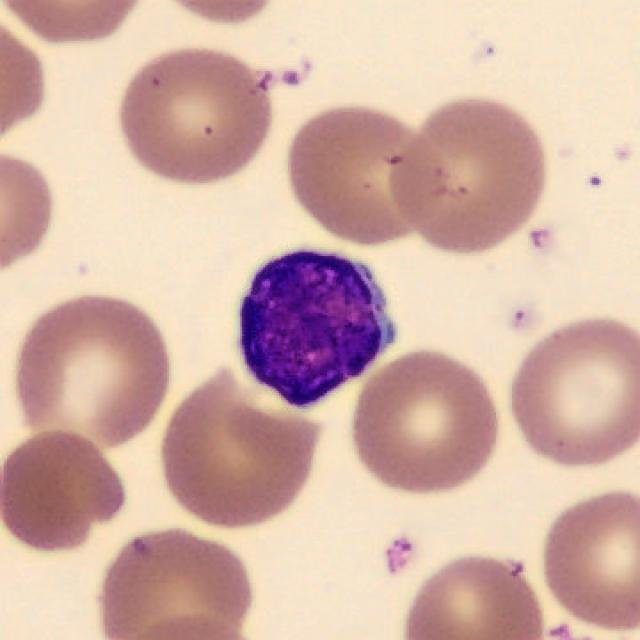Linfocito: (238, 251, 396, 409)
